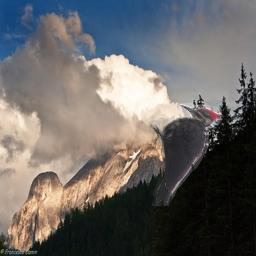Woodpecker: (149, 103, 222, 206)
